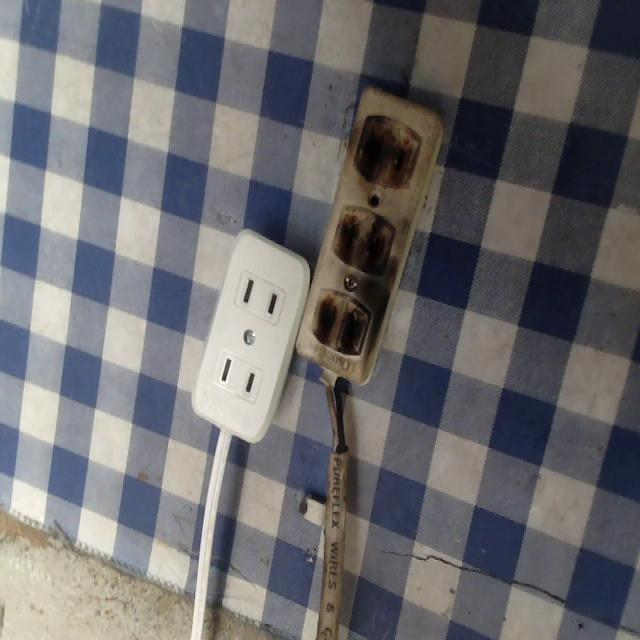-: (359, 114, 414, 186), (337, 208, 392, 272), (320, 291, 371, 360)
